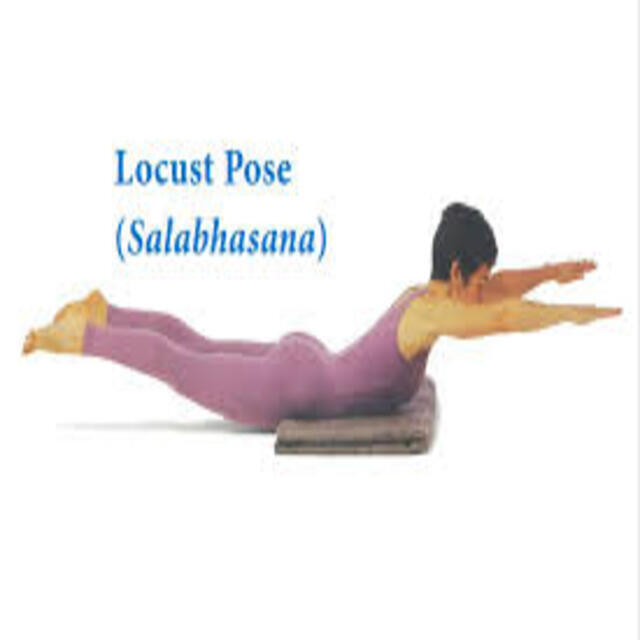Locust_Pose: (19, 200, 624, 434)
